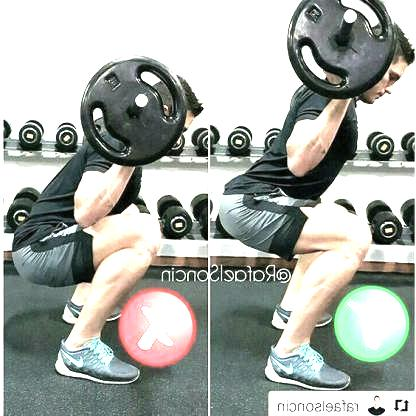Barbell: (341, 10, 355, 27), (133, 93, 146, 108)
